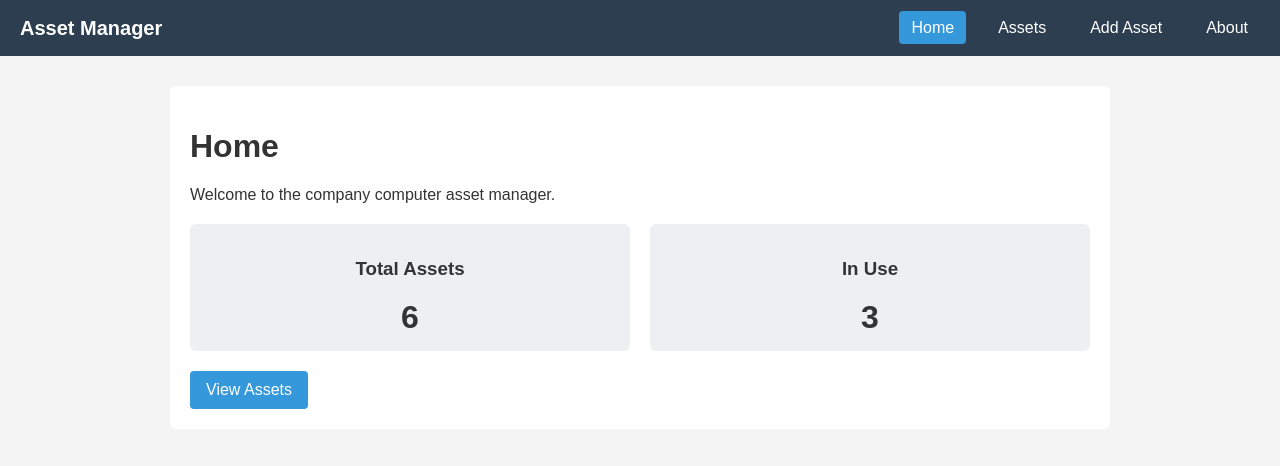
Test: clicking About opens the about page with the team
This screenshot has width=1280, height=466.
Click the link "About": x=1227, y=28 [1206,19,1248,36]
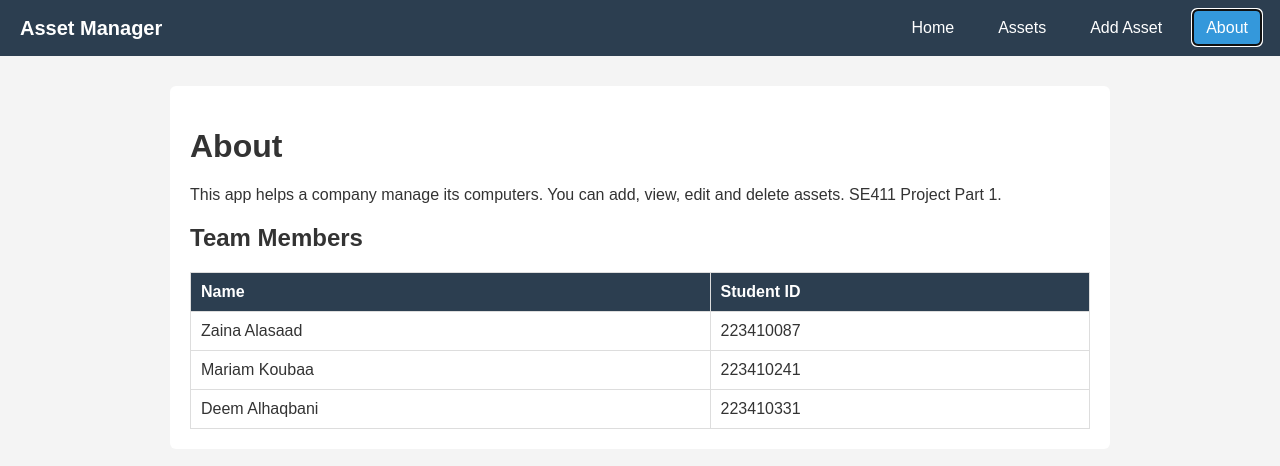
Now the heading "Team Members" is shown, box [190,224,363,251]
Now the column heading "Student ID" is shown, box [710,272,1090,311]
